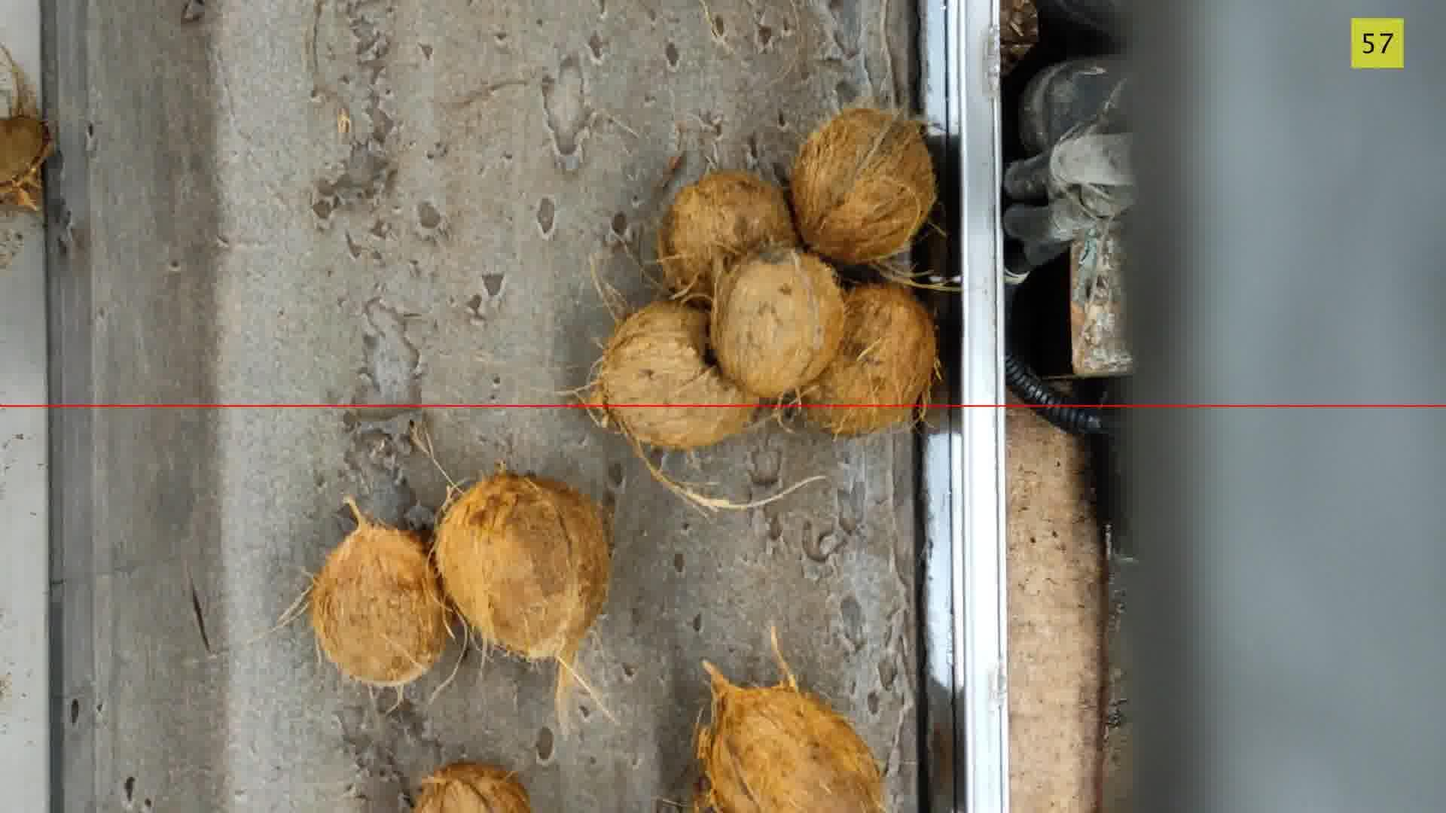Coconut: (434, 471, 610, 703), (697, 656, 882, 812), (310, 501, 449, 687), (591, 300, 757, 449), (790, 107, 936, 263), (804, 283, 937, 435), (711, 248, 843, 397), (657, 171, 798, 297), (413, 762, 530, 812), (0, 116, 53, 210)
